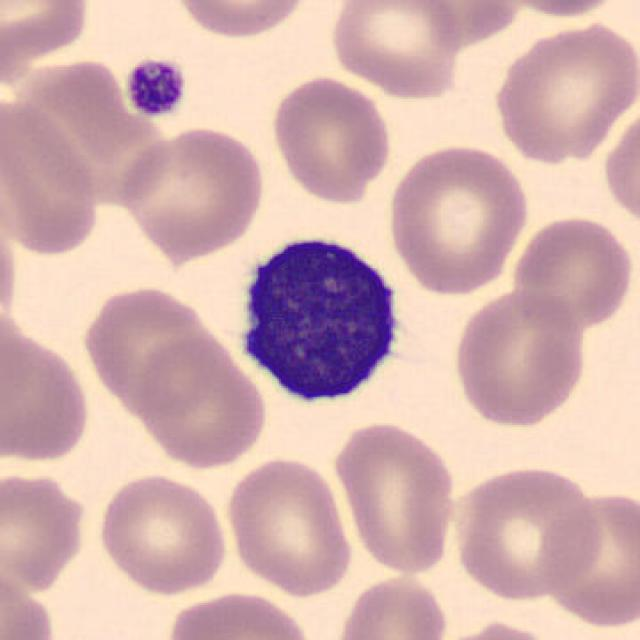Lymphocyte: (229, 222, 416, 414)
Platelets: (121, 55, 190, 120)
RBC: (384, 139, 532, 298), (448, 460, 604, 603), (489, 16, 638, 164), (329, 416, 460, 577), (115, 122, 268, 259), (450, 286, 590, 430), (222, 453, 356, 600), (135, 328, 270, 472), (76, 282, 220, 416), (94, 469, 231, 598), (0, 92, 105, 259), (266, 72, 394, 206), (508, 212, 636, 332), (535, 488, 638, 633), (325, 0, 465, 100), (0, 321, 94, 467), (0, 468, 91, 592), (331, 571, 452, 640), (164, 587, 316, 640), (0, 0, 94, 71), (391, 0, 528, 48), (167, 0, 318, 41), (601, 100, 640, 232), (0, 564, 59, 640), (427, 617, 560, 640), (487, 0, 631, 19), (0, 213, 21, 334)
